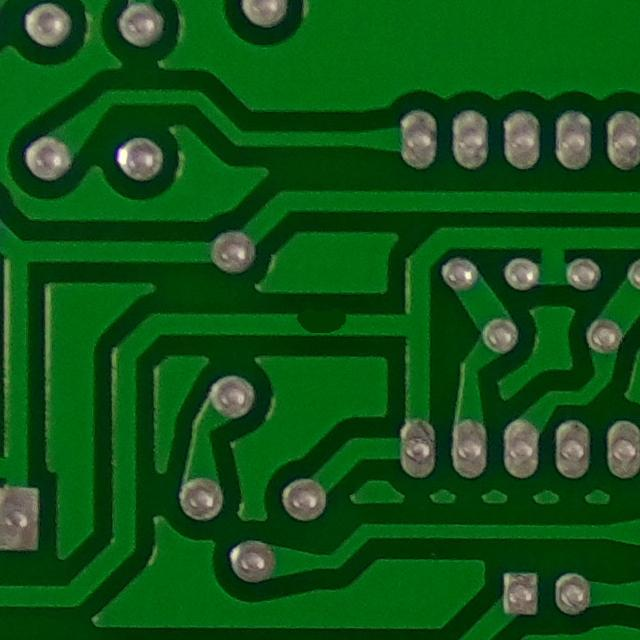mouse_bite: (272, 292, 368, 348)
